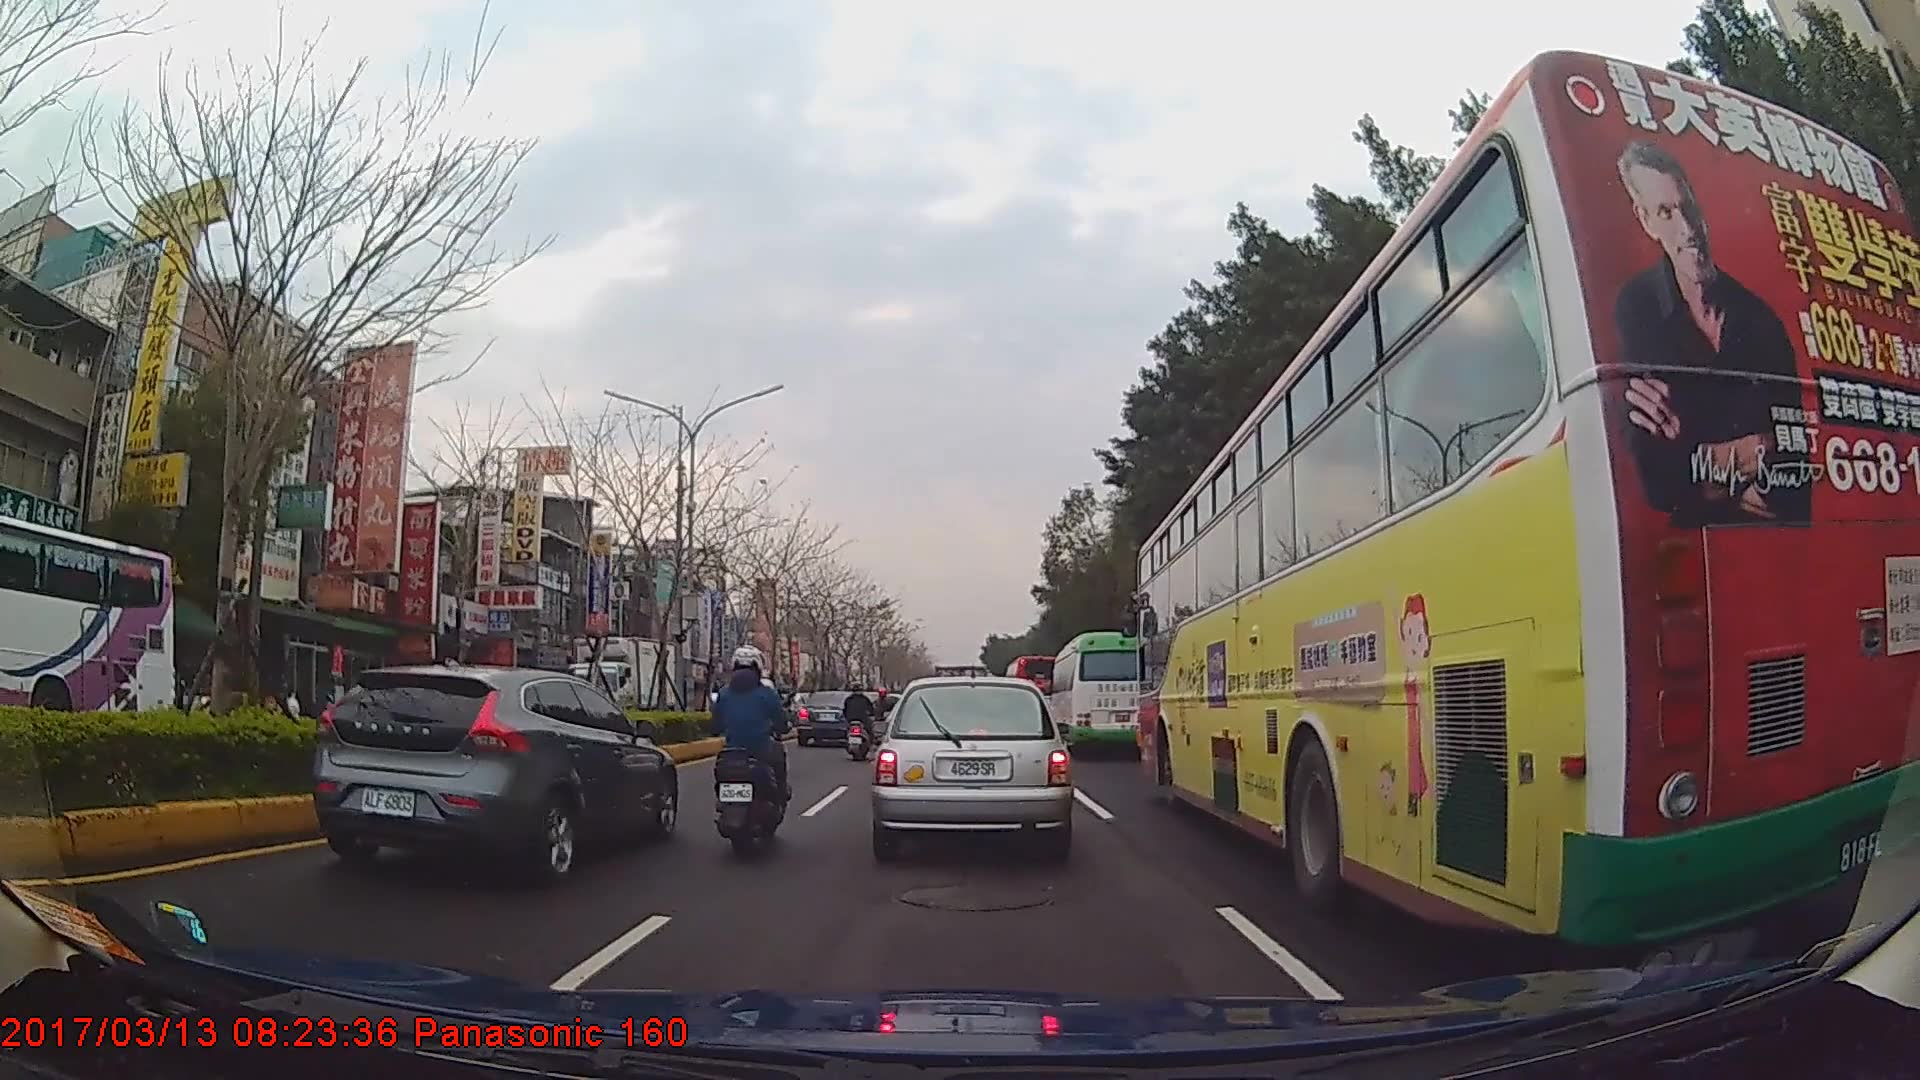rider: (710, 639, 794, 844), (744, 668, 785, 774), (842, 679, 878, 753), (871, 687, 896, 742)
vehicle: (1137, 41, 1920, 952), (314, 660, 679, 878), (0, 513, 176, 749), (873, 669, 1072, 852), (540, 623, 691, 750), (1049, 630, 1166, 757), (1002, 650, 1064, 724), (797, 686, 872, 744)
